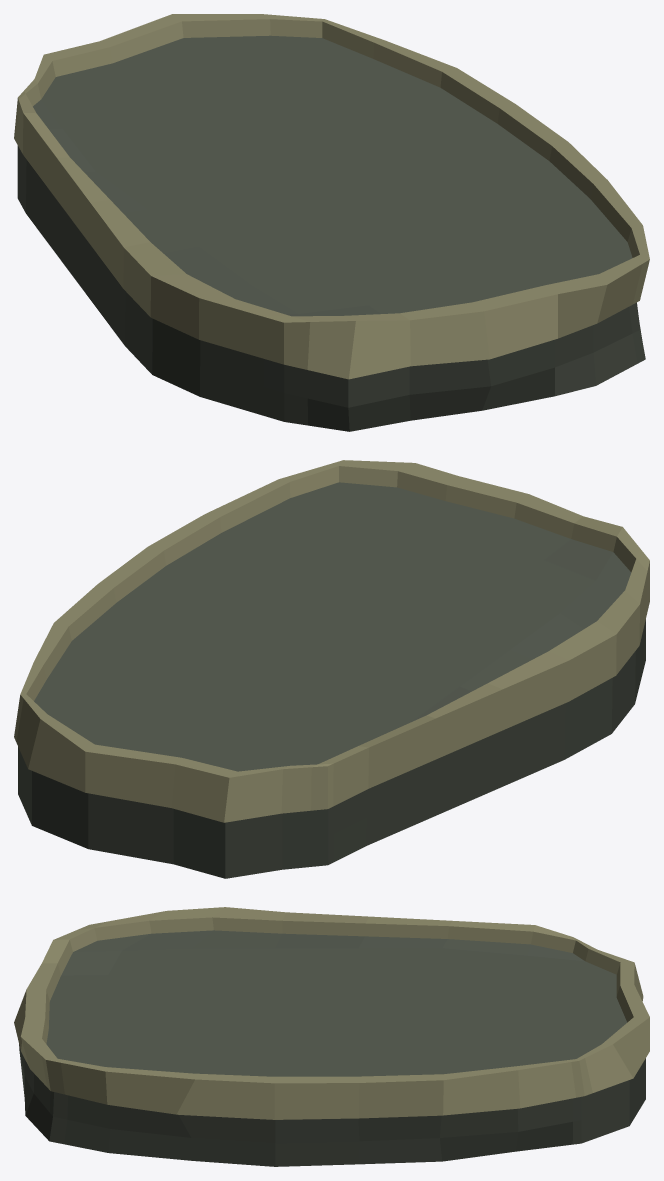
File: table.glb
The picture shows the model from 3 angles, top to bottom: view 1: azimuth 30°, elevation 25°; view 2: azimuth 150°, elevation 25°; view 3: azimuth 270°, elevation 25°; orthographic projection. The views are drawn at different scales.
Visible parts, largest first — view 1: table; view 2: table; view 3: table.
Part boxes in pixels (box(x1,y1,x2,y2)): table: box(14, 14, 649, 431); table: box(14, 460, 649, 878); table: box(14, 907, 649, 1166).
Bounding box in the file's own units: 10.99 × 2.57 × 16.37.
Materials: 1 (1 with a texture image).
